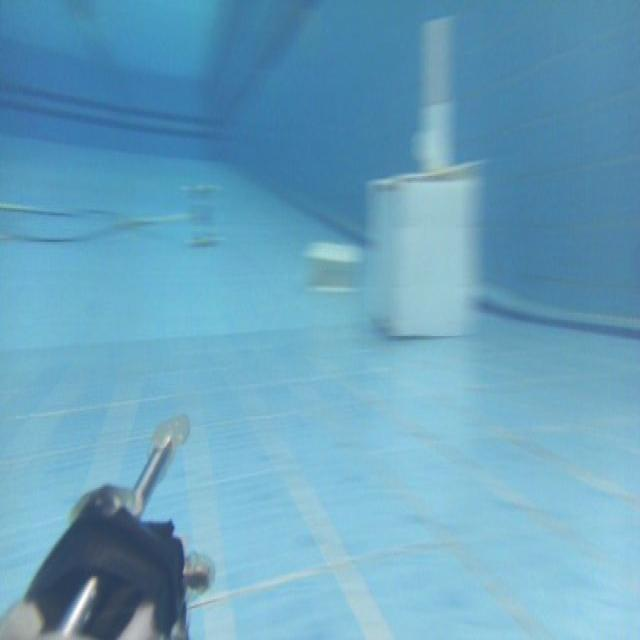Cube: (363, 156, 486, 340)
